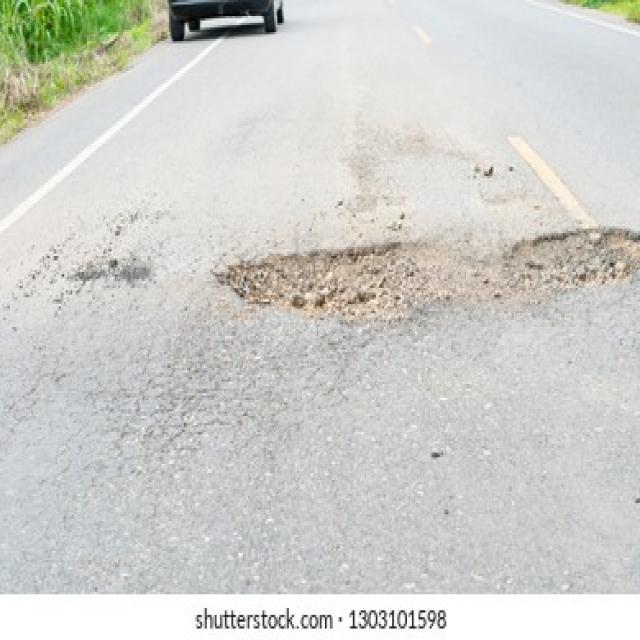Pothole: (208, 242, 453, 329), (502, 224, 640, 304)
